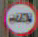Heavy Vehicles: (2, 1, 37, 35)
